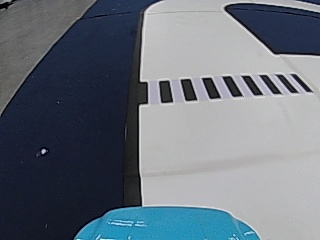CrossWalk: (137, 72, 309, 103)
